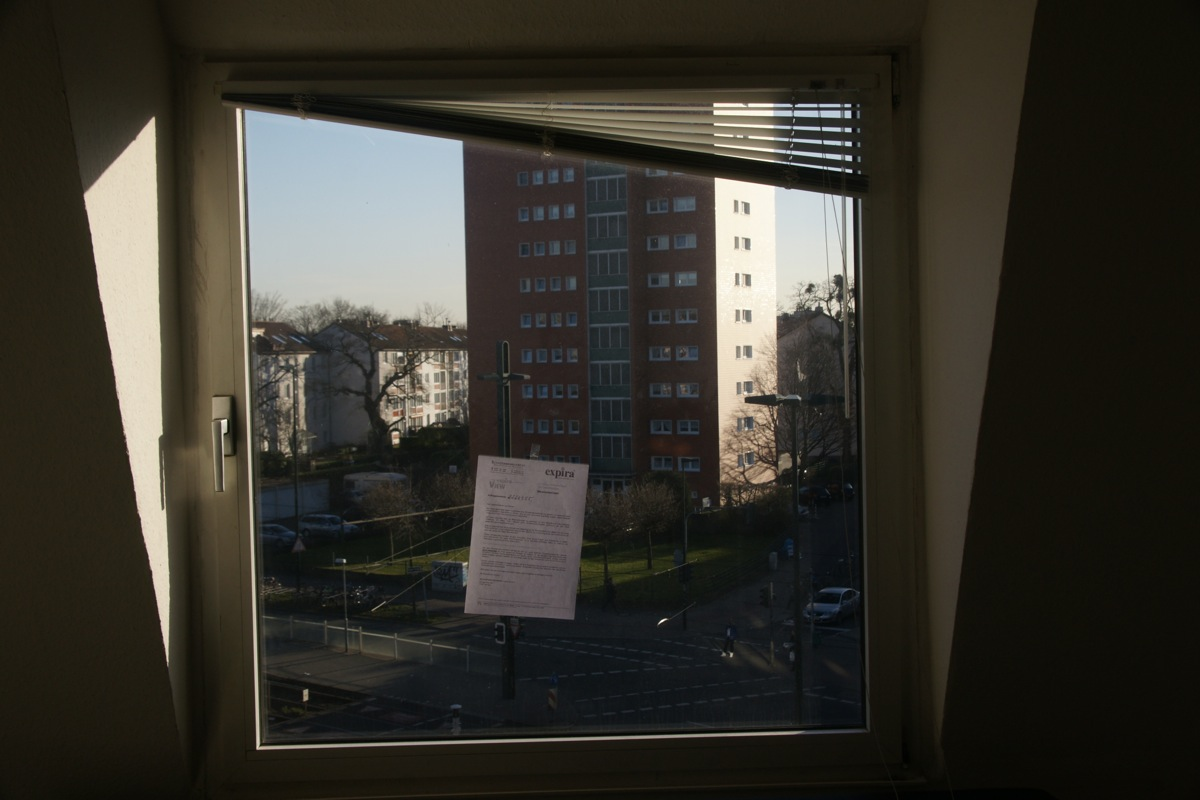windows: (197, 61, 898, 765)
